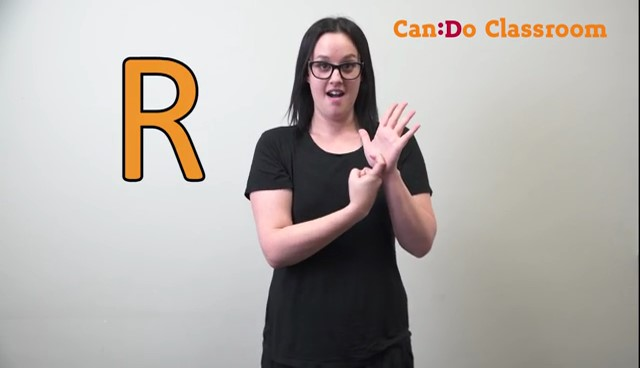R: (345, 97, 428, 233)
